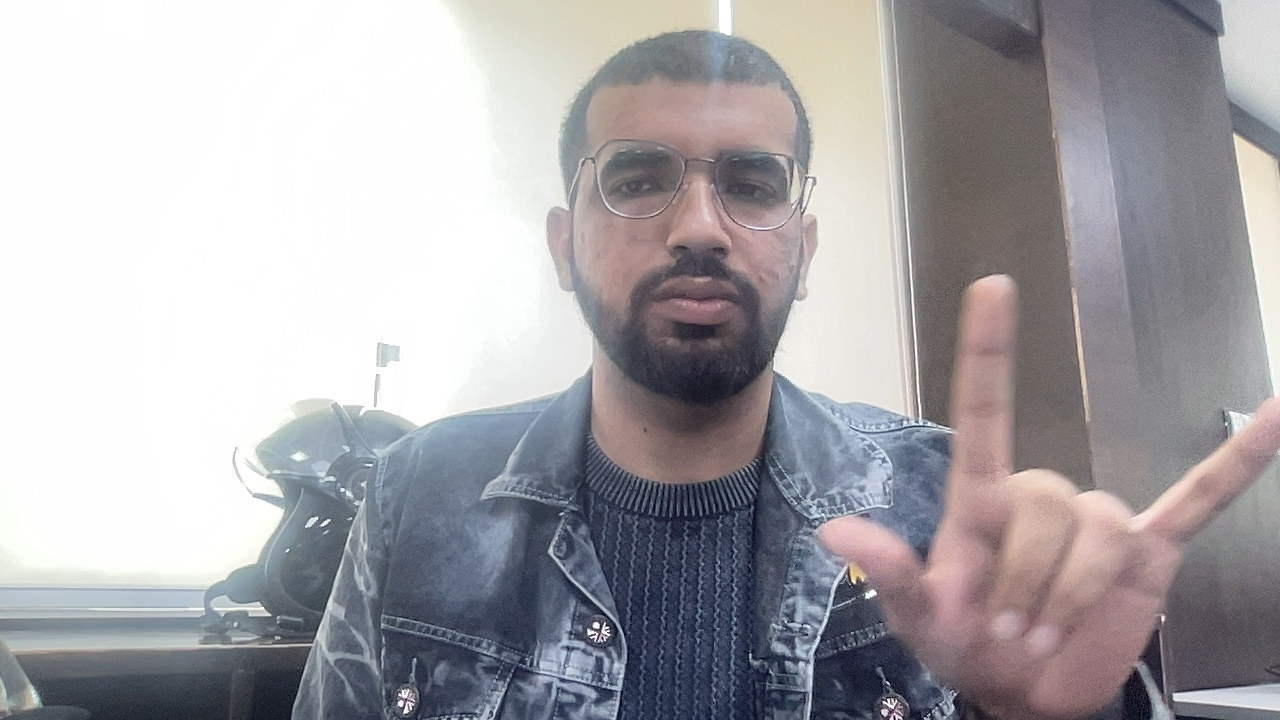I Love You: (841, 272, 1279, 720)
